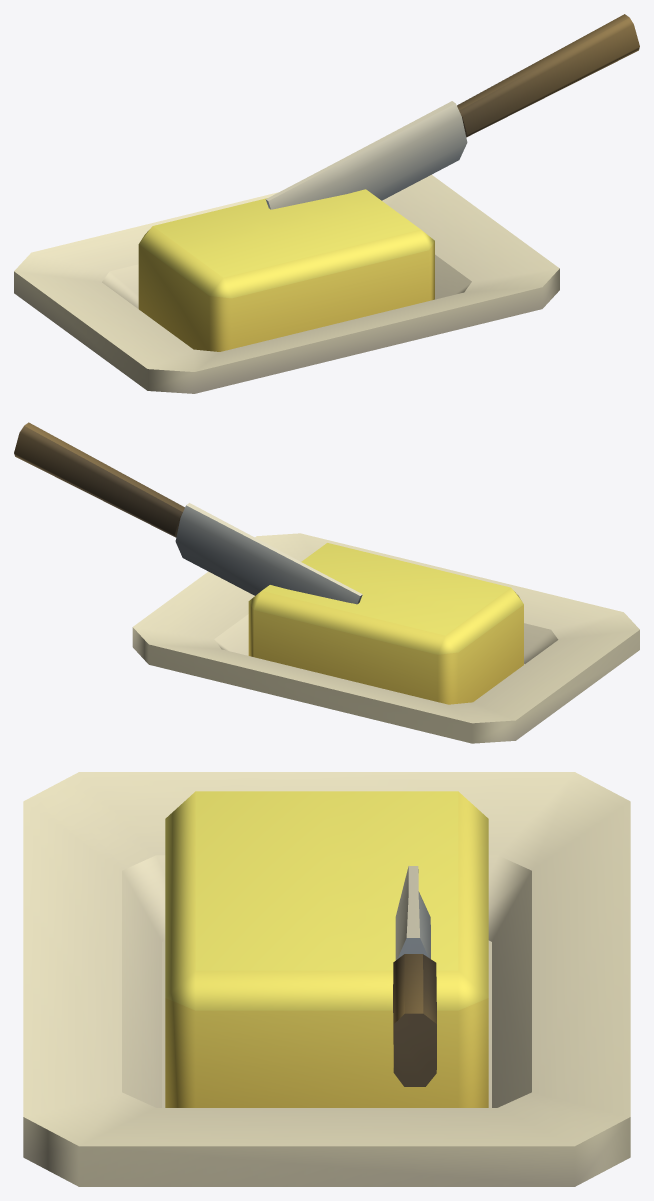
The model's file is butter_plate.fbx.
The picture shows the model from 3 angles, top to bottom: view 1: azimuth 30°, elevation 25°; view 2: azimuth 150°, elevation 25°; view 3: azimuth 270°, elevation 25°; orthographic projection. The views are drawn at different scales.
Visible parts, largest first — view 1: butter_plate; view 2: butter_plate; view 3: butter_plate.
Part boxes in pixels (bbox=[...]): butter_plate: bbox=[14, 14, 639, 393]; butter_plate: bbox=[14, 422, 639, 743]; butter_plate: bbox=[23, 772, 630, 1186].
Size of the model in its own units: 67.31 by 21.99 by 32.88.
